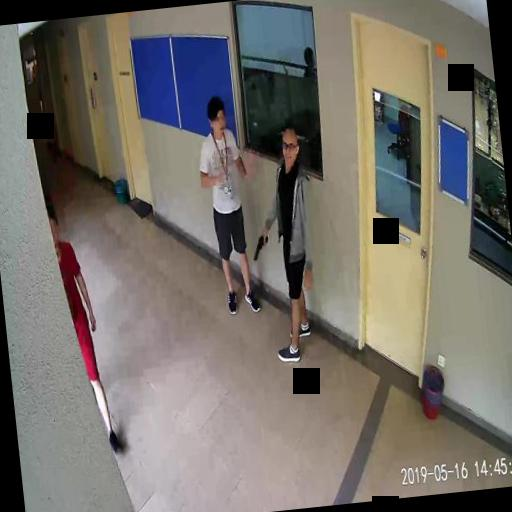Handgun: (250, 232, 268, 260)
